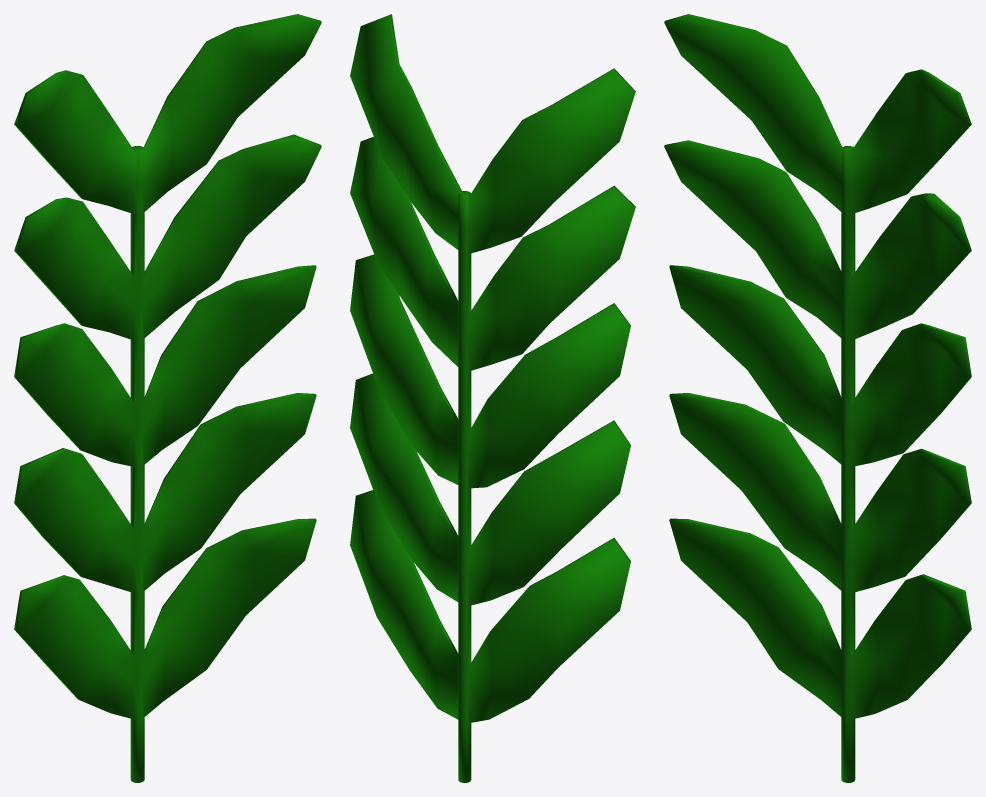
Rendered from fern1.fbx.
The picture shows the model from 3 angles, left to right: view 1: azimuth 30°, elevation 25°; view 2: azimuth 150°, elevation 25°; view 3: azimuth 330°, elevation 25°; orthographic projection. The views are drawn at different scales.
Parts seen in each view (by area): view 1: fern1; view 2: fern1; view 3: fern1.
Part boxes in pixels (<box>): fern1: <box>14,14,321,782</box>; fern1: <box>350,14,635,782</box>; fern1: <box>664,14,971,782</box>.
Bounding box in the file's own units: 0.4901 × 1.21 × 0.1302.
